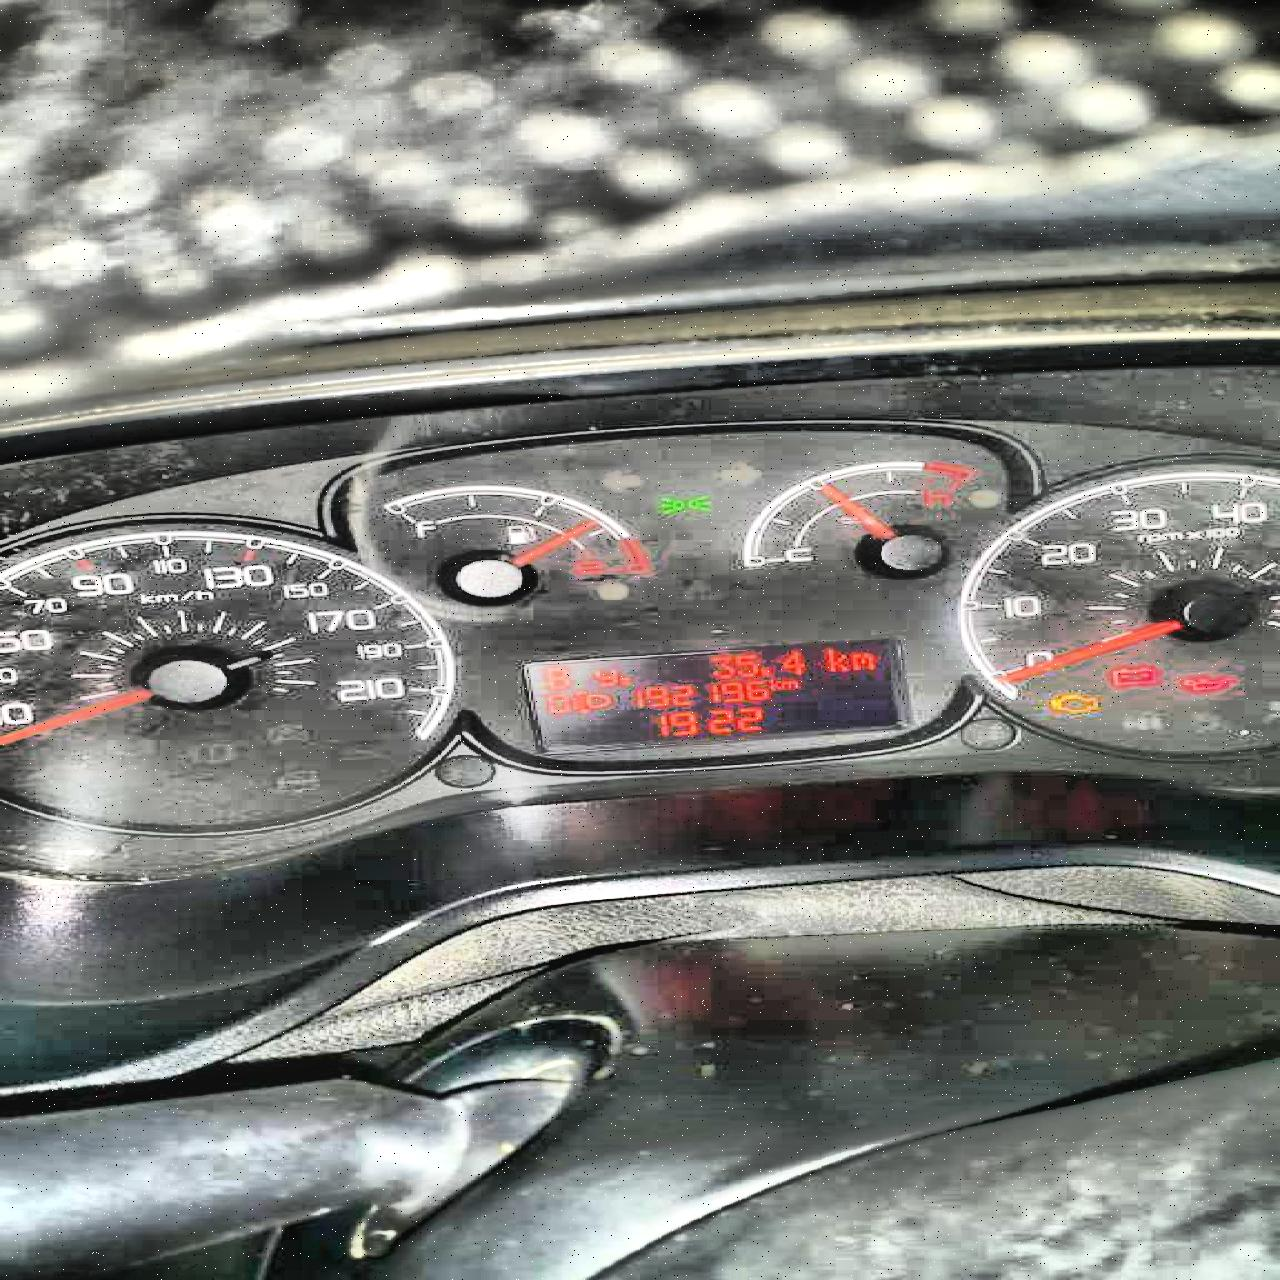-: (756, 663, 774, 676), (615, 675, 635, 685)
0: (544, 692, 568, 714)
1: (655, 710, 669, 737), (707, 681, 717, 703), (633, 688, 642, 708)
2: (707, 708, 731, 734), (736, 707, 762, 731), (669, 682, 693, 707)
3: (707, 654, 731, 678)
4: (778, 648, 804, 674)
5: (734, 654, 756, 676)
6: (744, 679, 767, 701)
9: (669, 710, 695, 735), (717, 680, 744, 701), (645, 685, 667, 707)
X: (824, 645, 846, 673), (544, 665, 568, 689), (591, 667, 615, 688), (849, 651, 873, 670), (779, 679, 798, 688), (769, 678, 778, 688)
odometer: (511, 634, 920, 756)
